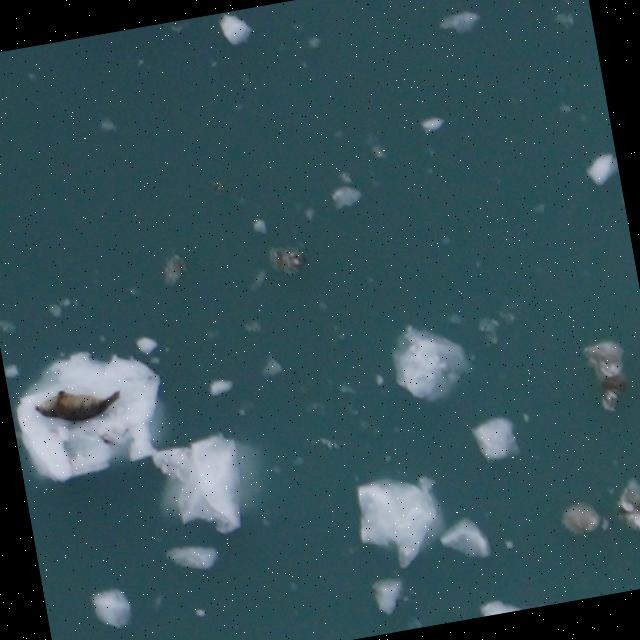seal: (27, 380, 130, 433)
